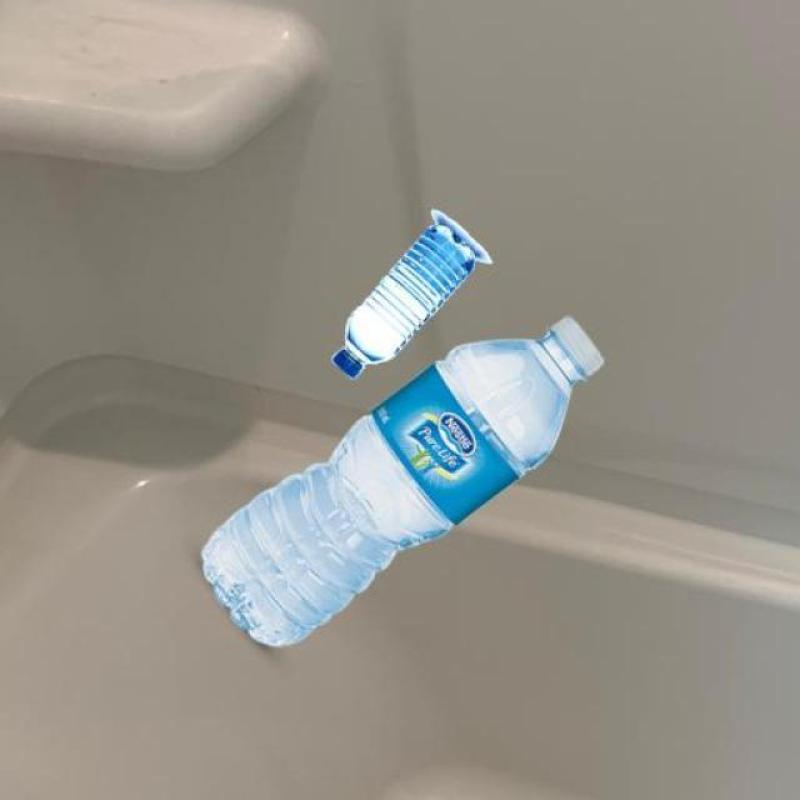botella: (197, 316, 609, 646), (332, 222, 474, 376)
